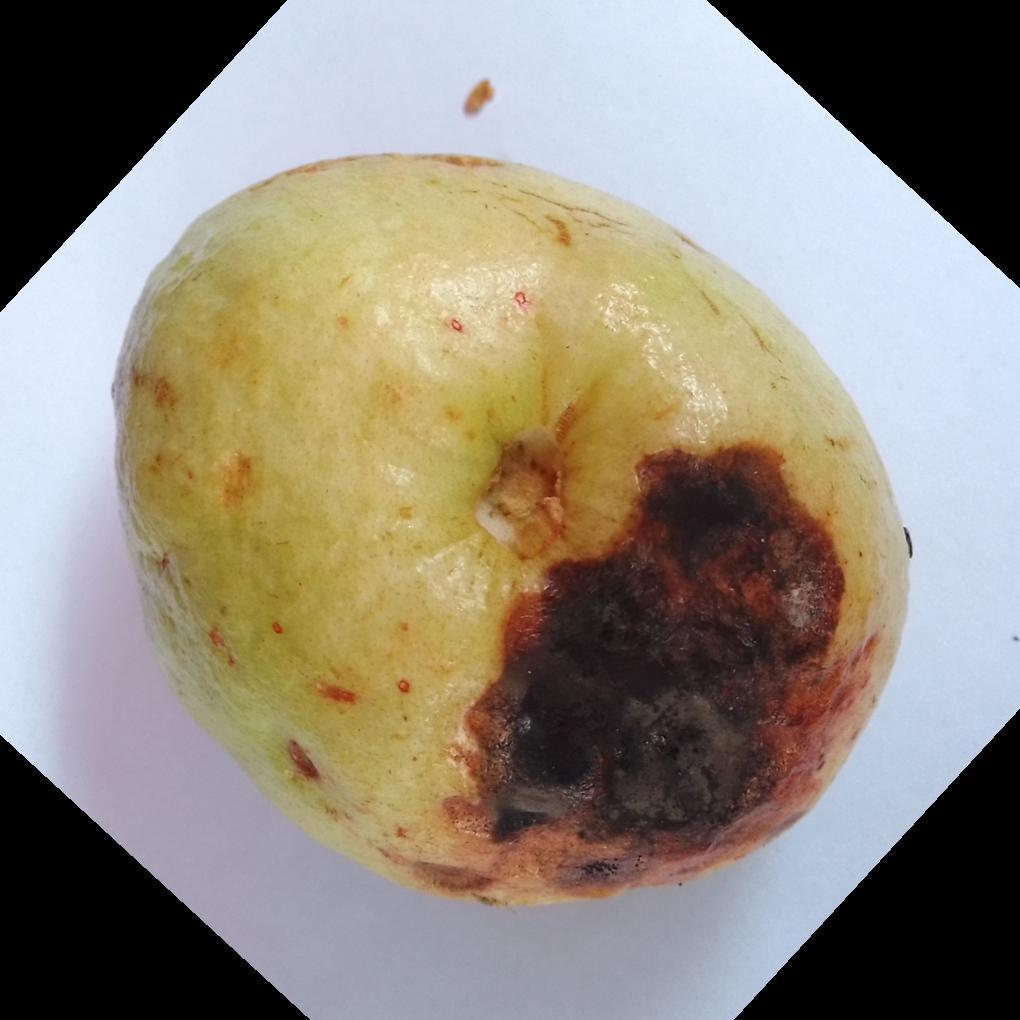FreshOrange: (108, 152, 913, 916)
